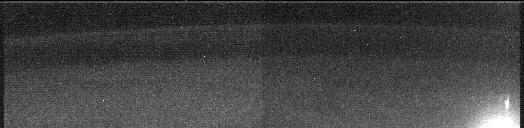positive: (500, 93, 513, 112)
